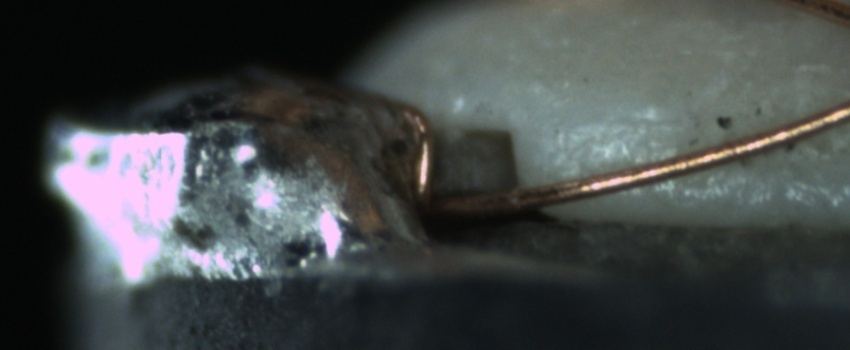DL: (558, 96, 691, 151)
TE: (382, 89, 444, 220)
